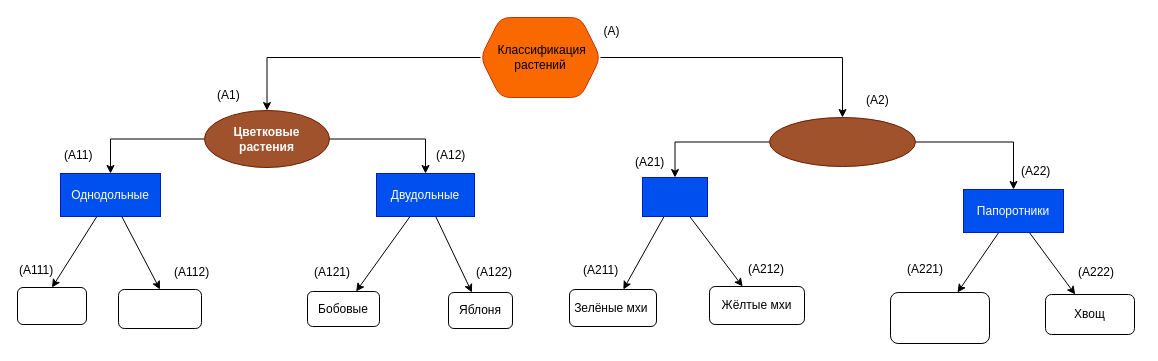
The diagram is 1158 pixels wide and 361 high, and some of its shapes have lost their labels. The centre of each missing label's shape, as x and y in pixels:
"Бесцветковые растения" belongs at pixel 842 141.
"Лук" belongs at pixel 51 305.
"Мхи" belongs at pixel 675 196.
"Обычный папоротник" belongs at pixel 940 318.
"Рис" belongs at pixel 160 308.
